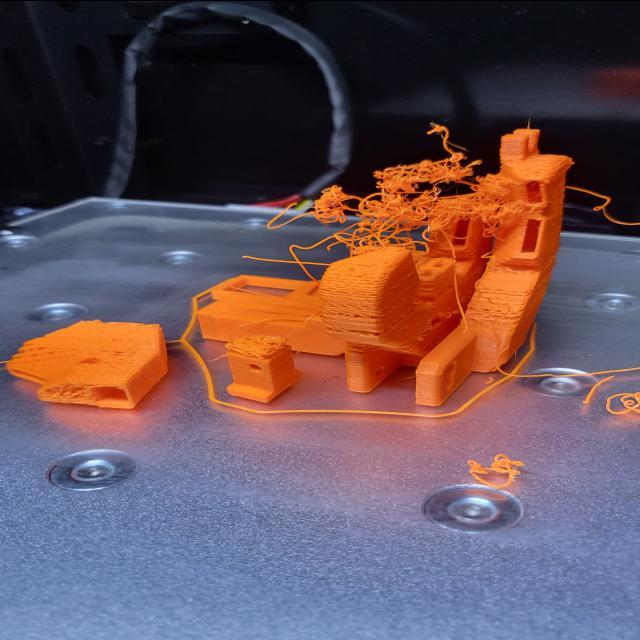Spaghetti: (268, 149, 507, 257)
